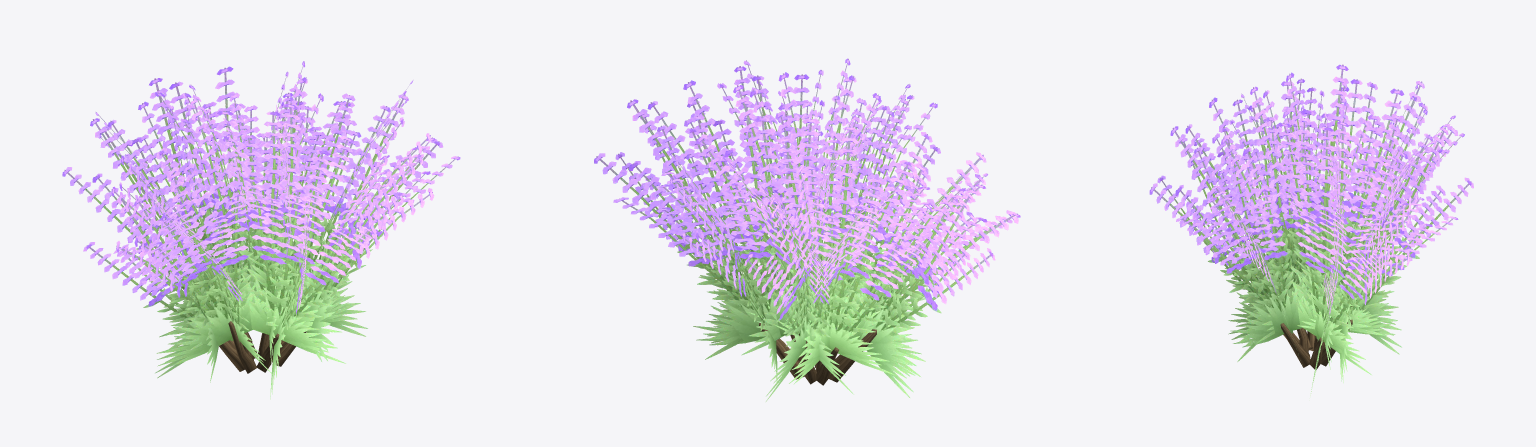
The model's file is lavender-DN4QQpYM.glb.
3 renders of one model, left to right at view 1: azimuth 30°, elevation 25°; view 2: azimuth 150°, elevation 25°; view 3: azimuth 270°, elevation 25°, orthographic. The views are drawn at different scales.
Visible parts, largest first — view 1: LavenderSprigs, LavenderWood; view 2: LavenderSprigs, LavenderWood; view 3: LavenderSprigs, LavenderWood.
Boxes of the visible parts, x1,y1,x2,y2 form: LavenderSprigs: [62, 61, 460, 399]; LavenderWood: [219, 321, 306, 373]; LavenderSprigs: [594, 58, 1020, 401]; LavenderWood: [759, 323, 876, 385]; LavenderSprigs: [1149, 64, 1473, 395]; LavenderWood: [1280, 297, 1355, 369].
Bounding box in the file's own units: 1.03 × 0.72 × 0.83.
Materials: 2 (2 with a texture image).
